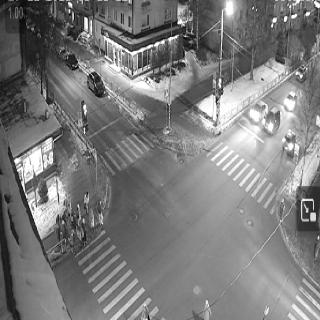small-vehicle: (88, 69, 105, 99), (263, 108, 280, 136), (248, 101, 268, 121), (282, 130, 296, 156), (52, 42, 67, 61), (284, 93, 297, 114), (66, 50, 78, 70), (296, 66, 306, 82)
